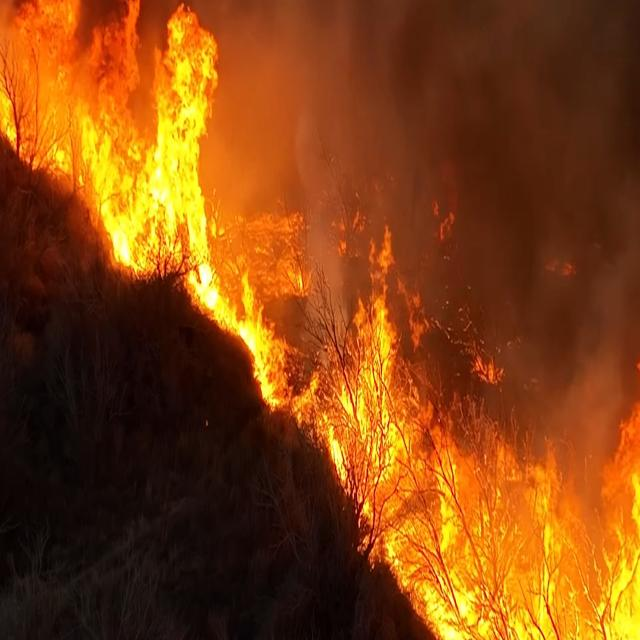fire: (337, 279, 556, 640), (0, 0, 221, 283), (535, 335, 640, 640)
smoke: (395, 0, 640, 220)
